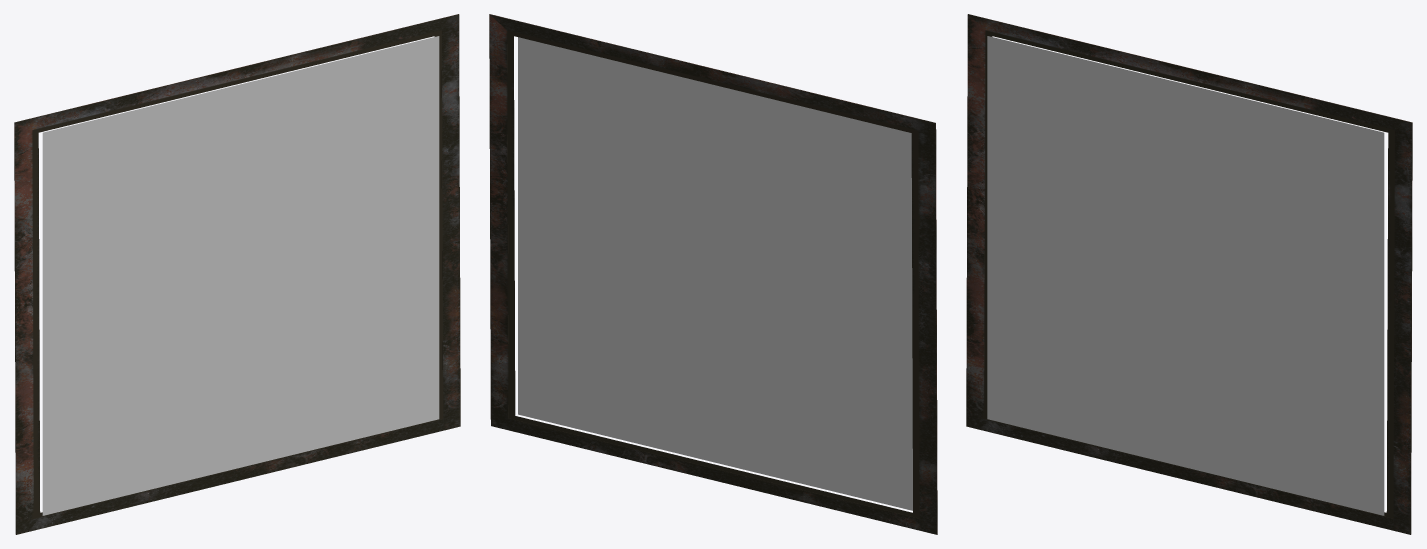
The picture shows the model from 3 angles, left to right: view 1: azimuth 30°, elevation 25°; view 2: azimuth 150°, elevation 25°; view 3: azimuth 330°, elevation 25°; orthographic projection.
Visible parts, largest first — view 1: Plane, f; view 2: Plane, f; view 3: Plane, f.
Boxes of the visible parts, x1,y1,x2,y2 form: Plane: [42, 36, 439, 515]; f: [14, 14, 460, 534]; Plane: [518, 37, 912, 510]; f: [489, 14, 937, 534]; Plane: [987, 36, 1384, 515]; f: [966, 14, 1412, 534].
Size of the model in its own units: 0.8737 by 0.7722 by 0.0155.
Materials: 2 (1 with a texture image).
